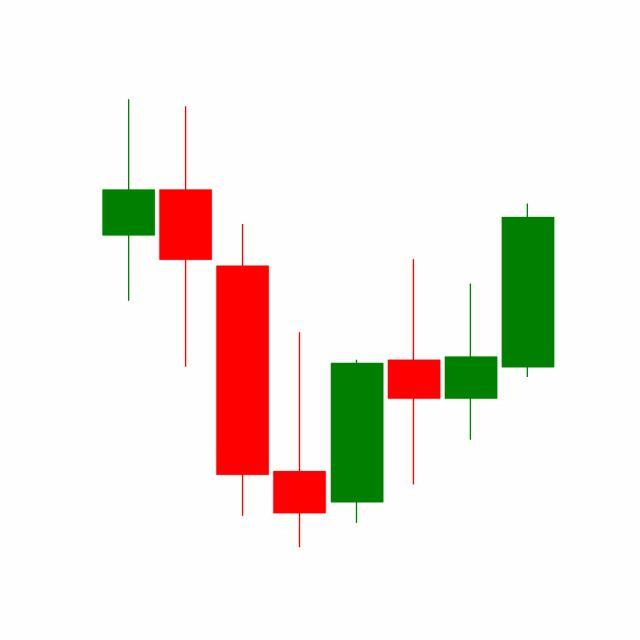Hikkake Pattern: (270, 199, 555, 549)
